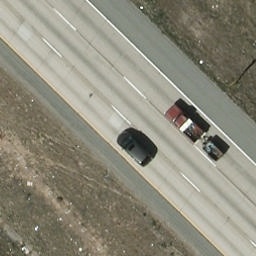car: (116, 133, 152, 165)
pickup: (163, 105, 205, 142)
